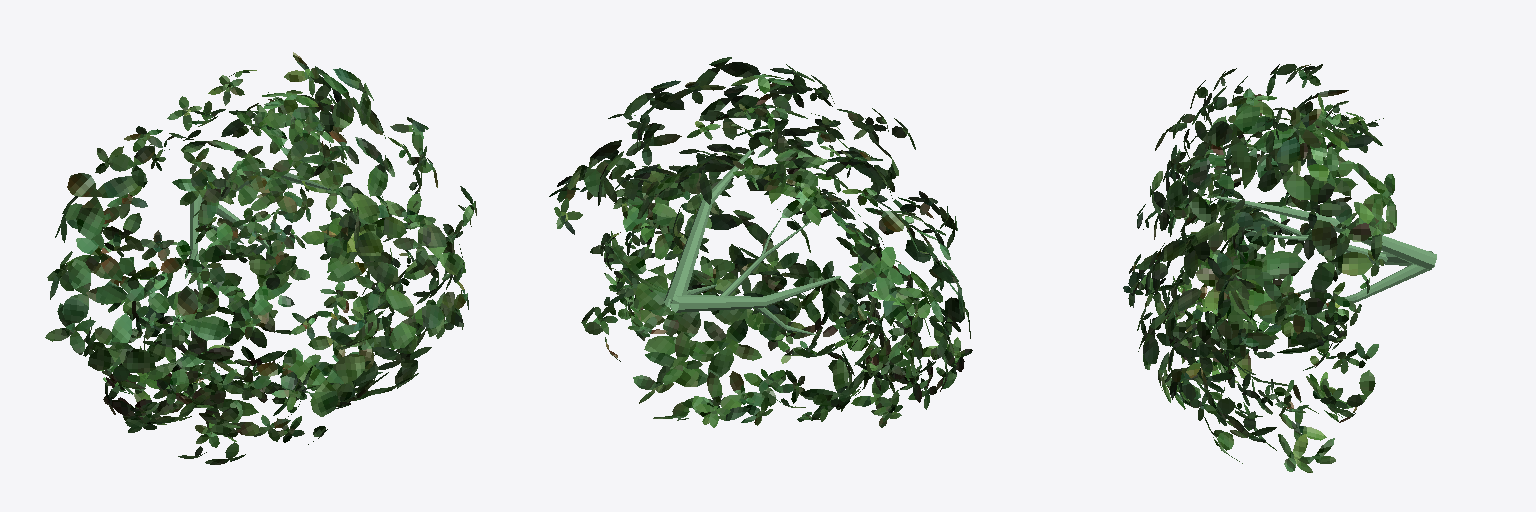
The picture shows the model from 3 angles: view 1: azimuth 30°, elevation 25°; view 2: azimuth 150°, elevation 25°; view 3: azimuth 270°, elevation 25°; orthographic projection.
Size of the model in its own units: 1.55 by 1.32 by 1.06.
Materials: 1 (1 with a texture image).